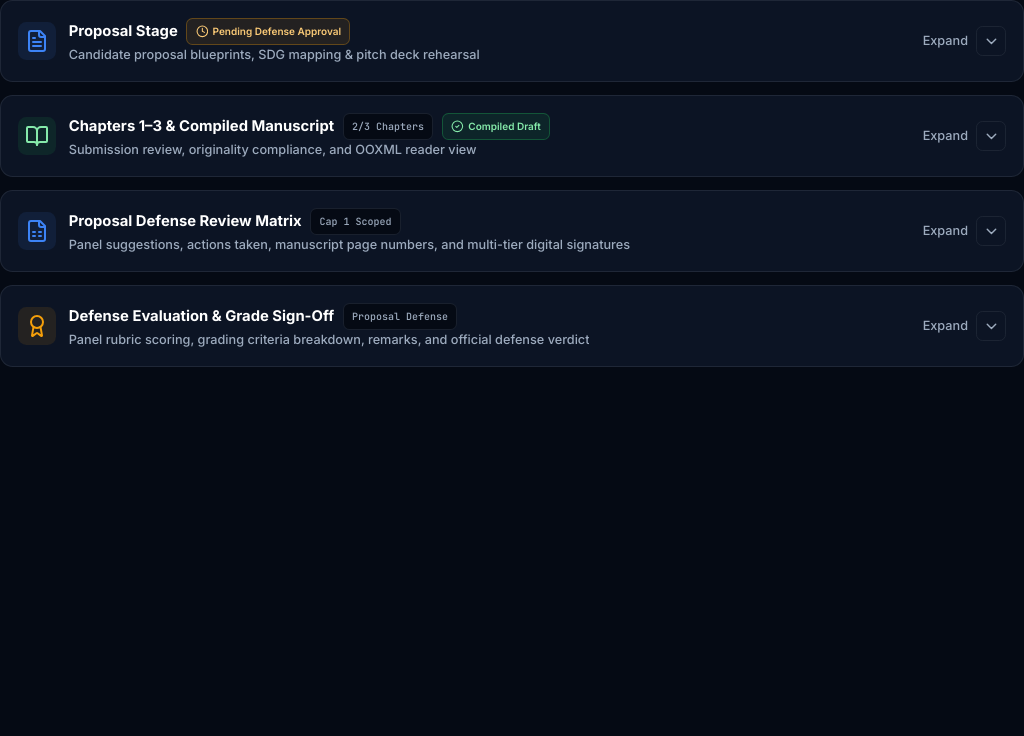
Scenario: Capstone1CollapsibleSections Component Suite › hides student drafting and rehearsal buttons and shows reviewer controls when isStudent is false
Click the button with test id "toggle-proposal-stage" at (37, 41), box [1,1,1023,81]
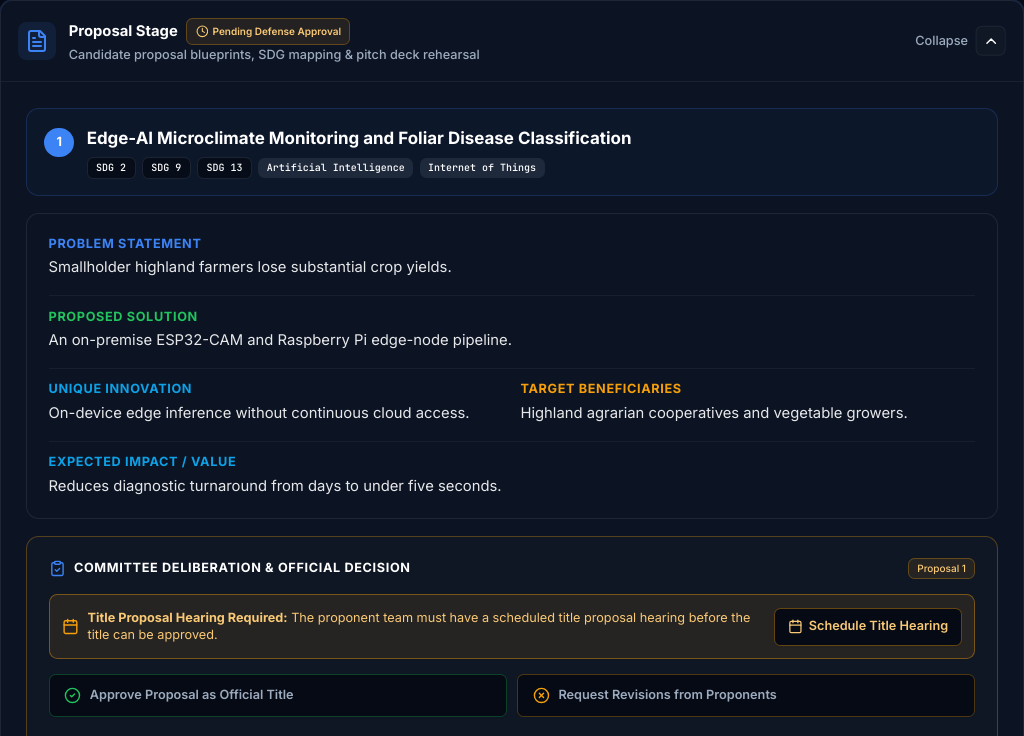
Now the button with test id "toggle-proposal-stage" is expanded, box [1,1,1023,81]
Now the text "Committee Deliberation & Official Decision" is shown, box [74,560,411,577]
Now the text "Approve Proposal as Official Title" is shown, box [90,687,294,704]
